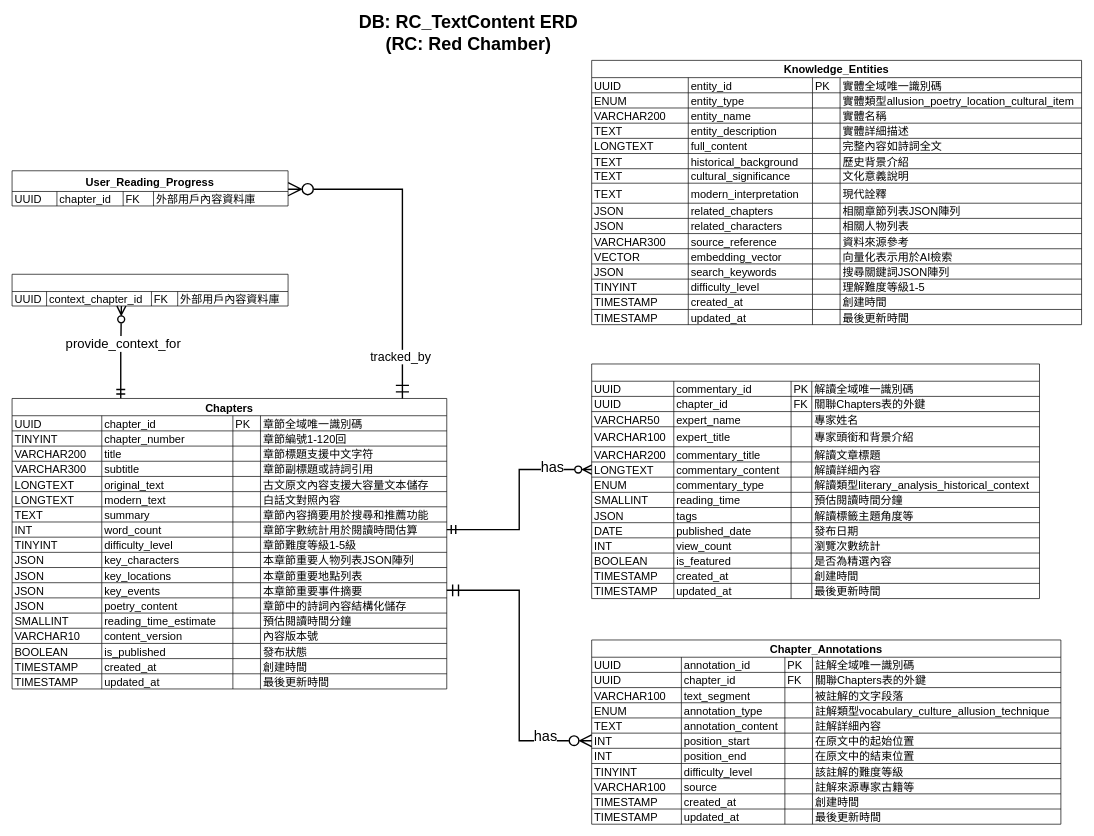
The diagram is 1094 pixels wide and 836 high, and some of its shapes have lost their labels. Each missing label, with the box of its shape:
Expert_Commentaries: (591, 363, 1039, 599)
QA_Sessions: (11, 274, 288, 306)
